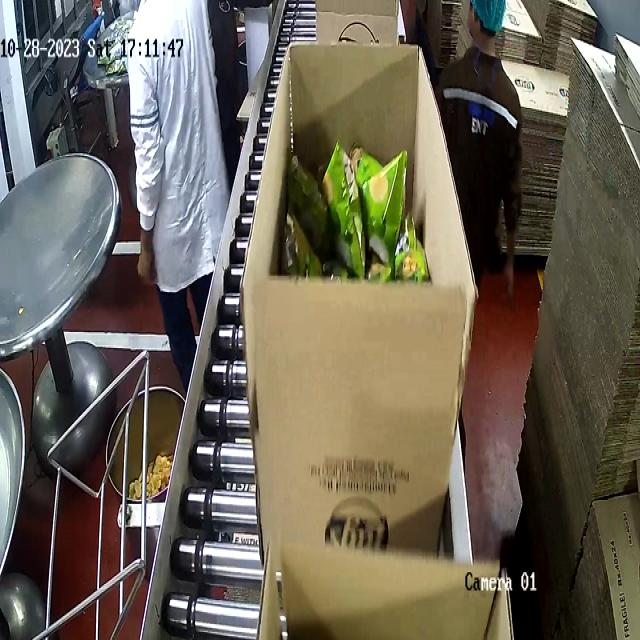YOGURT_HERB: (285, 125, 436, 281)
